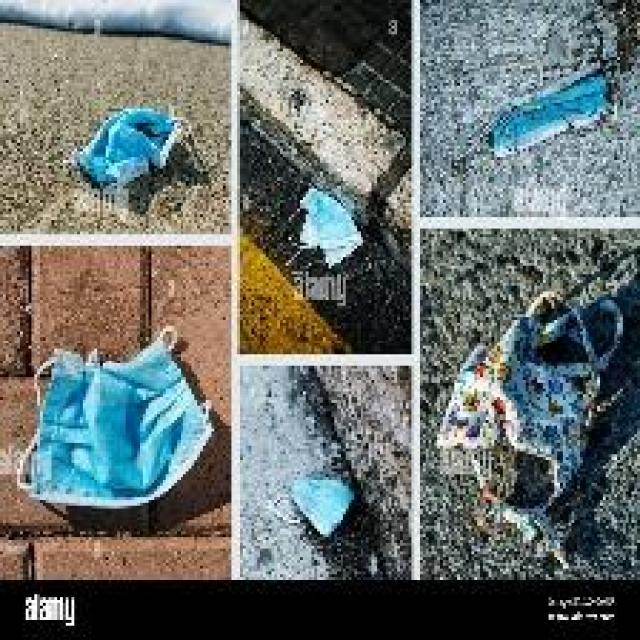Mask: (440, 301, 622, 545), (6, 330, 228, 503), (494, 72, 618, 184), (72, 89, 187, 203), (282, 167, 356, 285), (278, 471, 362, 539)
